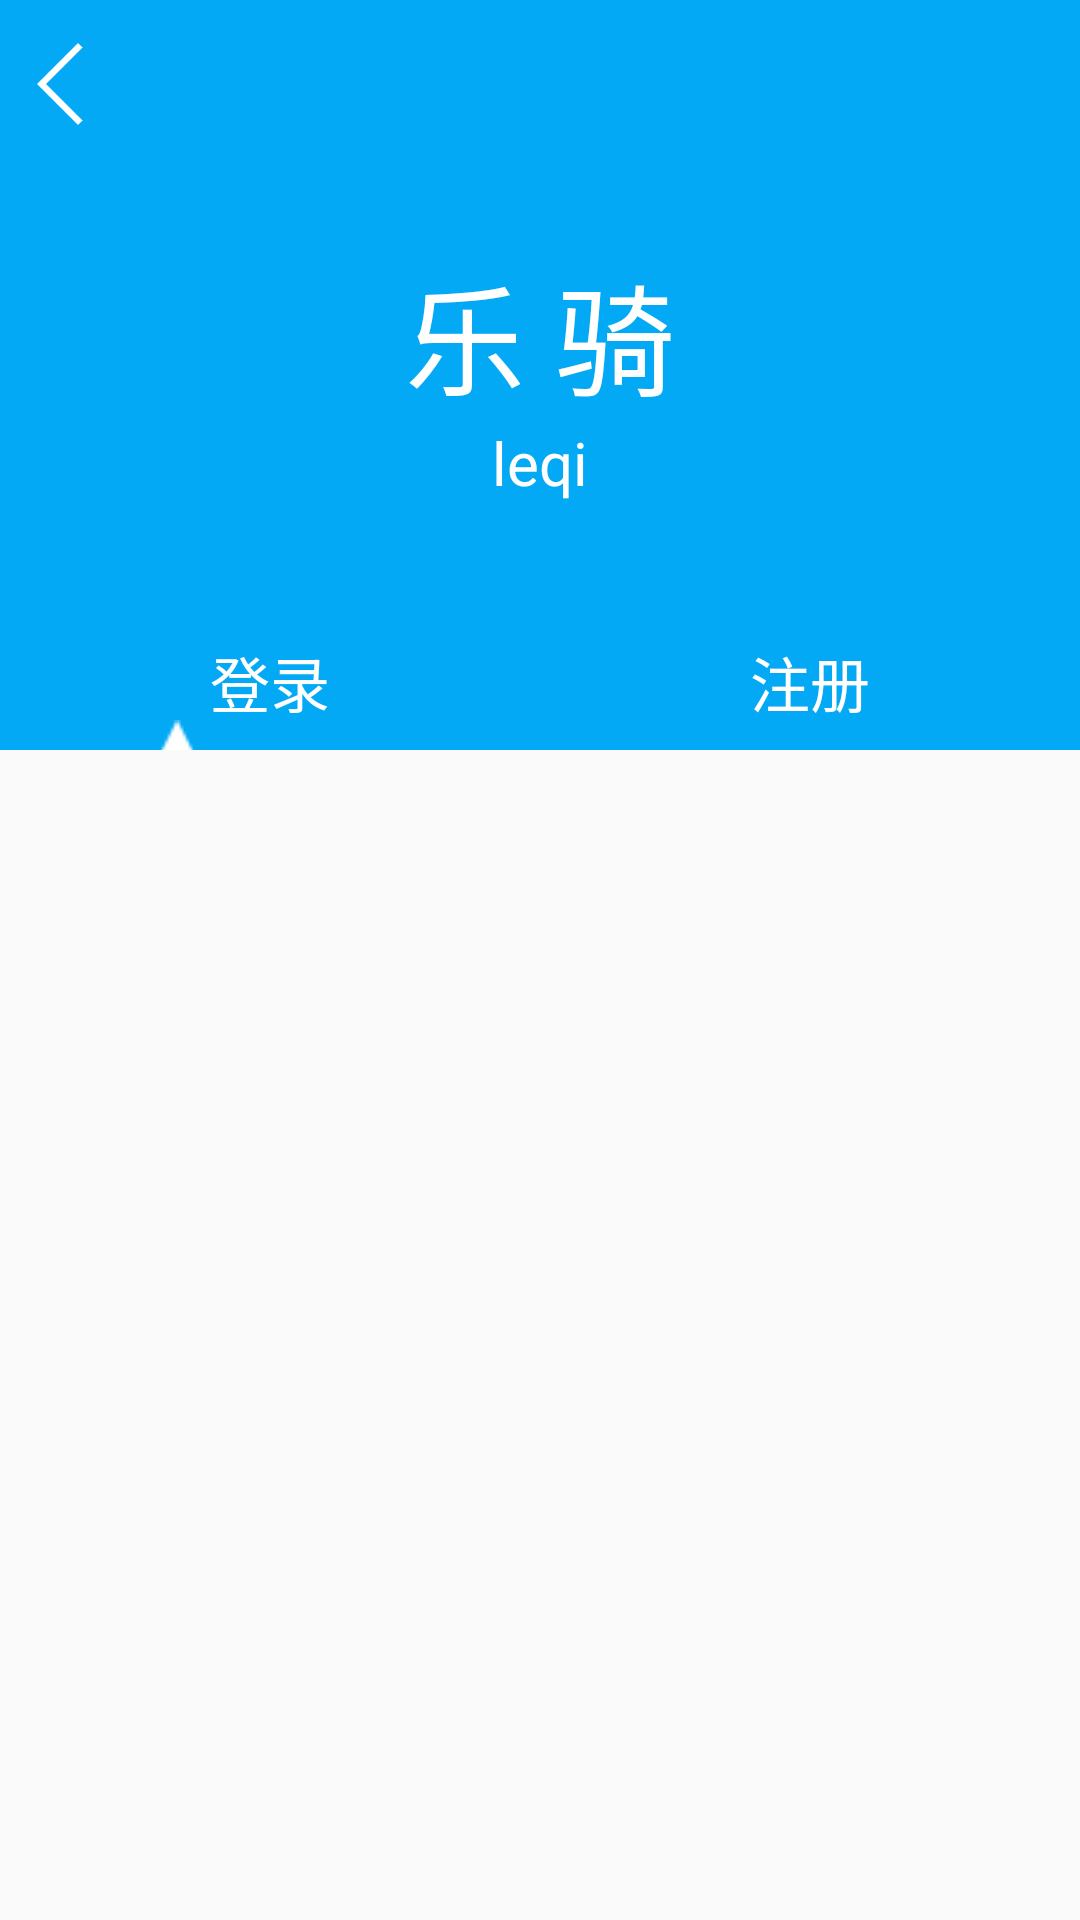

Where icons sit on this 1080w x 1920h app screen, as Rect(x1, y1, x2, y2):
back: Rect(37, 43, 83, 125)
